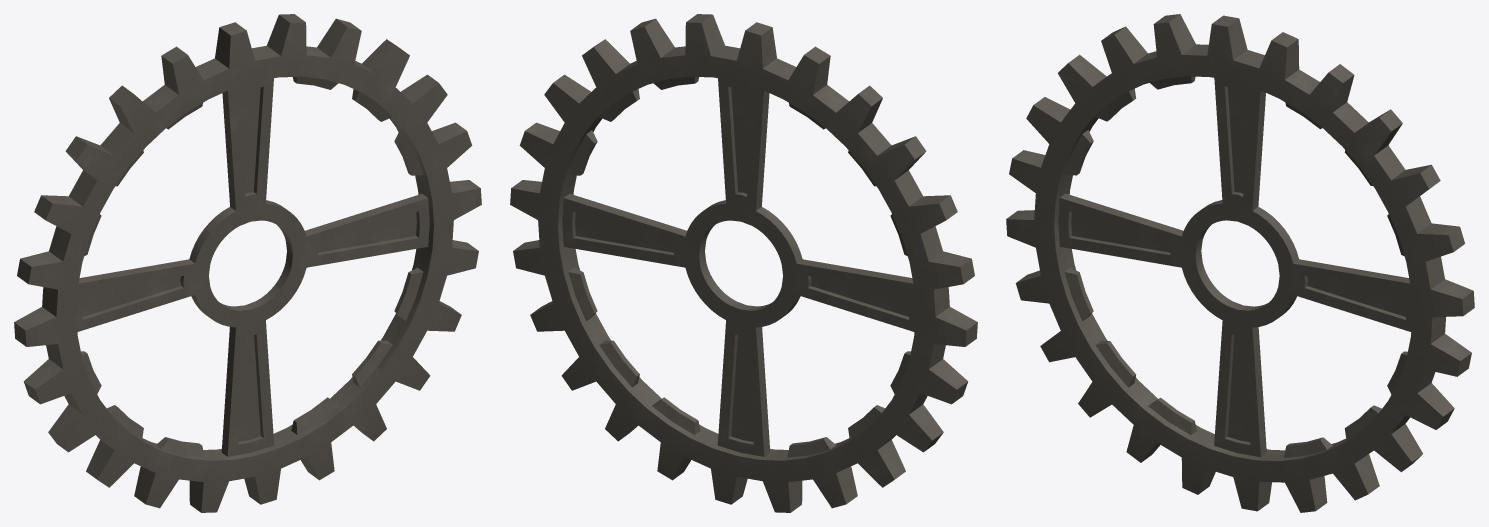
File: module-timer-02.glb
3 views of the same model, side by side, from view 1: azimuth 30°, elevation 25°; view 2: azimuth 150°, elevation 25°; view 3: azimuth 330°, elevation 25° (orthographic).
Parts seen in each view (by area): view 1: Mesh_0.003; view 2: Mesh_0.003; view 3: Mesh_0.003.
Part boxes in pixels (<box>): Mesh_0.003: <box>14,14,481,512</box>; Mesh_0.003: <box>510,14,977,512</box>; Mesh_0.003: <box>1006,14,1474,512</box>.
Bounding box in the file's own units: 1.84 × 1.84 × 0.1.
1 material, 1 textured.
